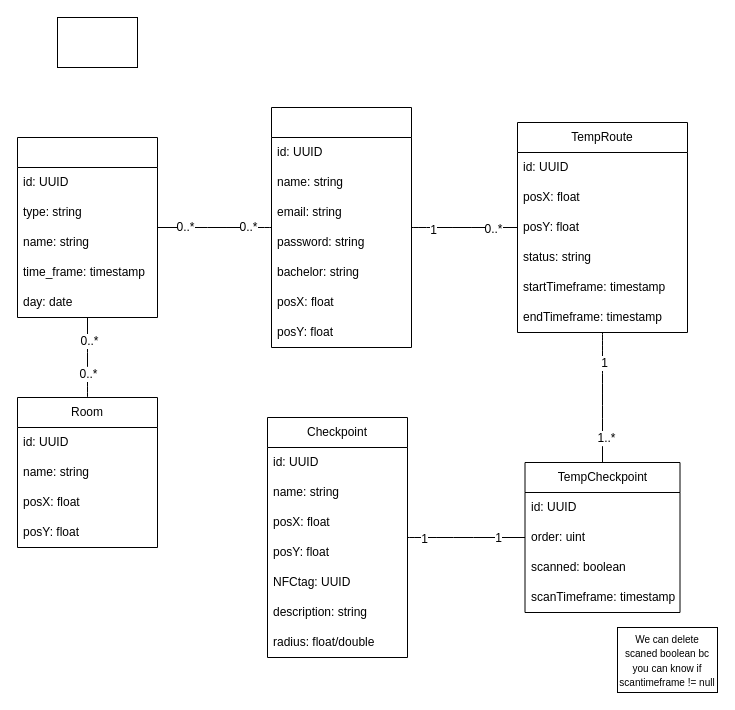
The diagram is 735 pixels wide and 710 high, and some of its shapes have lost their labels. The shapes that lost their labels are listed below. From the top down, each one's box as (x1, y1, x2, y2) in pixels, then its label:
(56, 16, 138, 68): No floor building for now
(16, 136, 158, 318): Class
(270, 106, 412, 348): User
